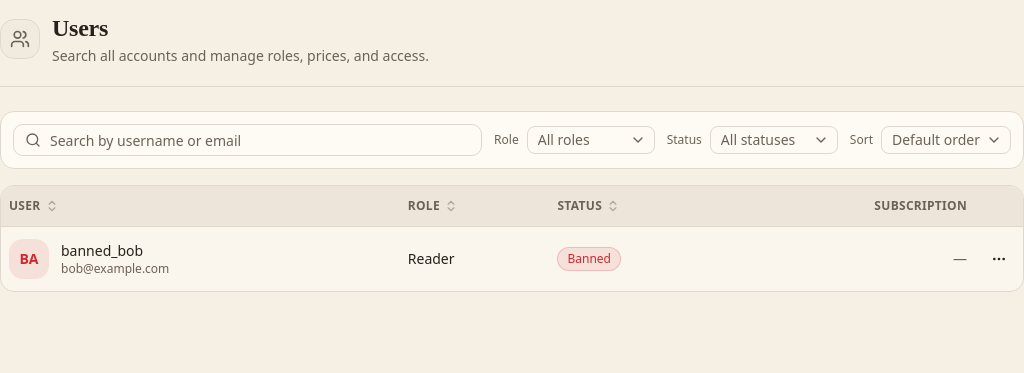
Test case: UsersManagementPage › only offers reactivate (not suspend/ban) for a banned user
Click the button named "Actions" at [999, 258], box [983,242,1015,274]
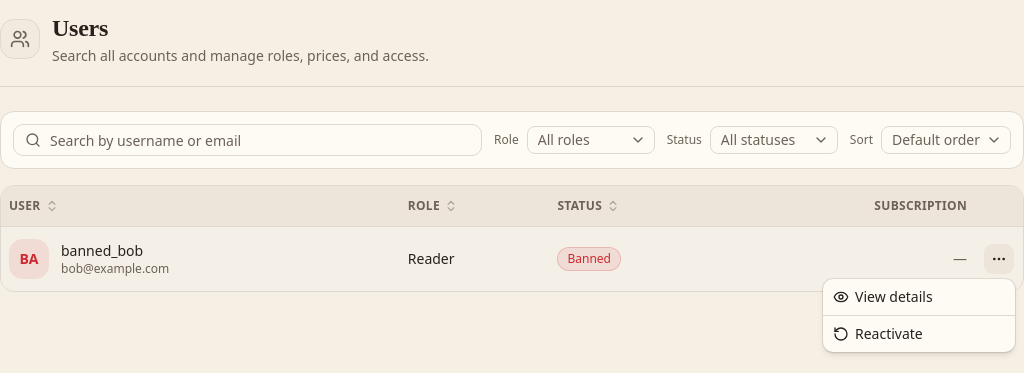
Result: the menu item "Reactivate" is shown at [833,324,923,343]
